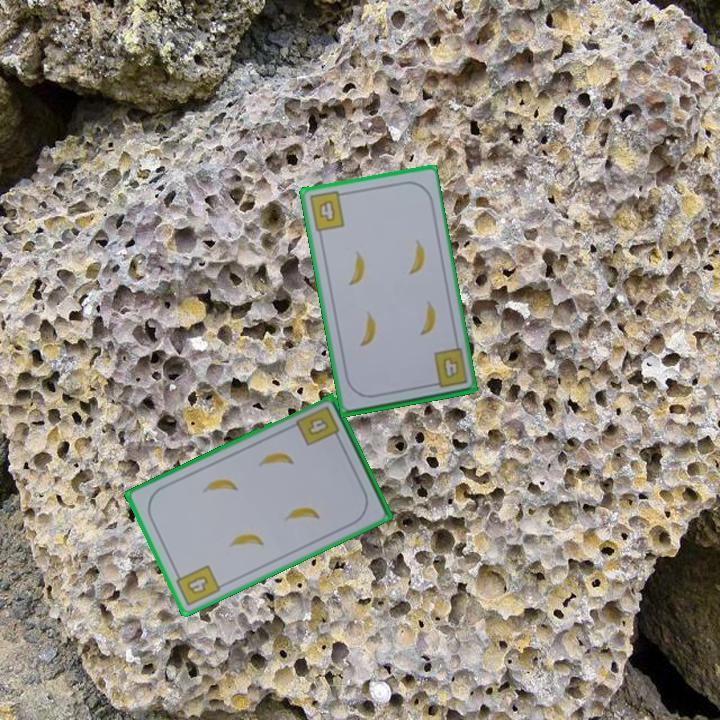4b: (171, 561, 223, 609), (305, 188, 349, 234), (426, 345, 470, 391), (303, 416, 329, 437)
